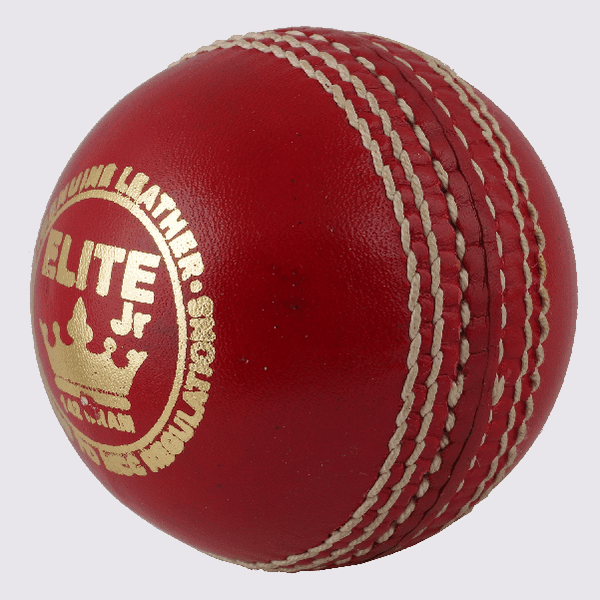red ball: (26, 23, 579, 576)
